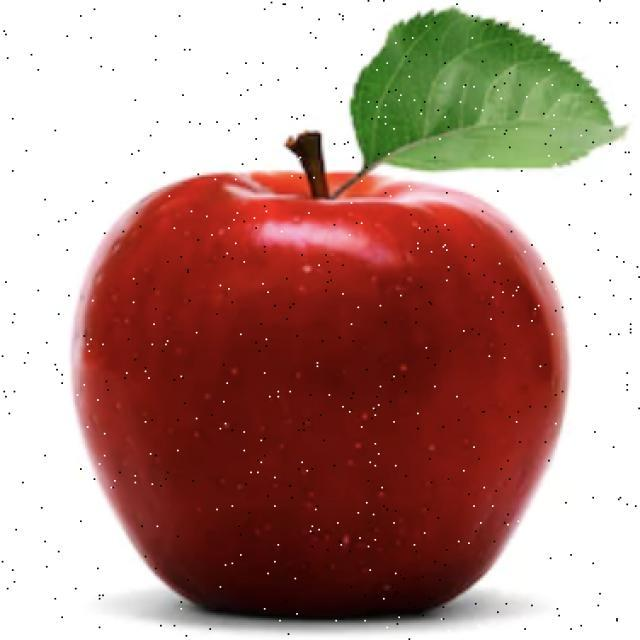Fresh Apple: (86, 173, 564, 640)
